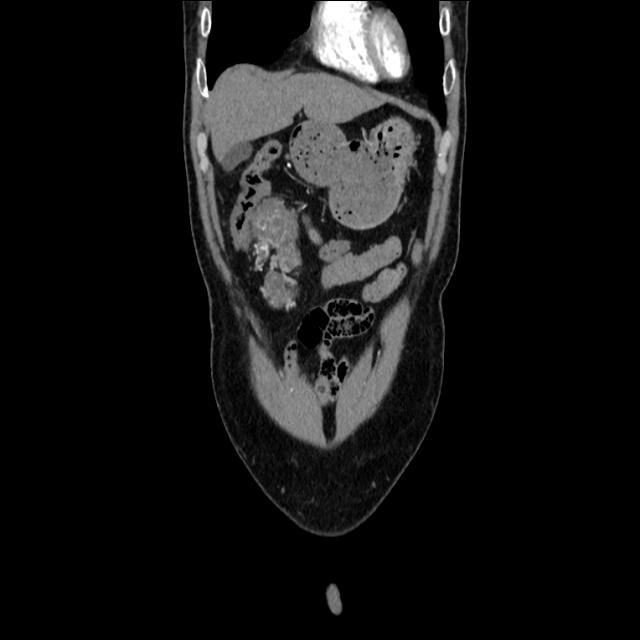Tumor: (226, 183, 317, 278)
